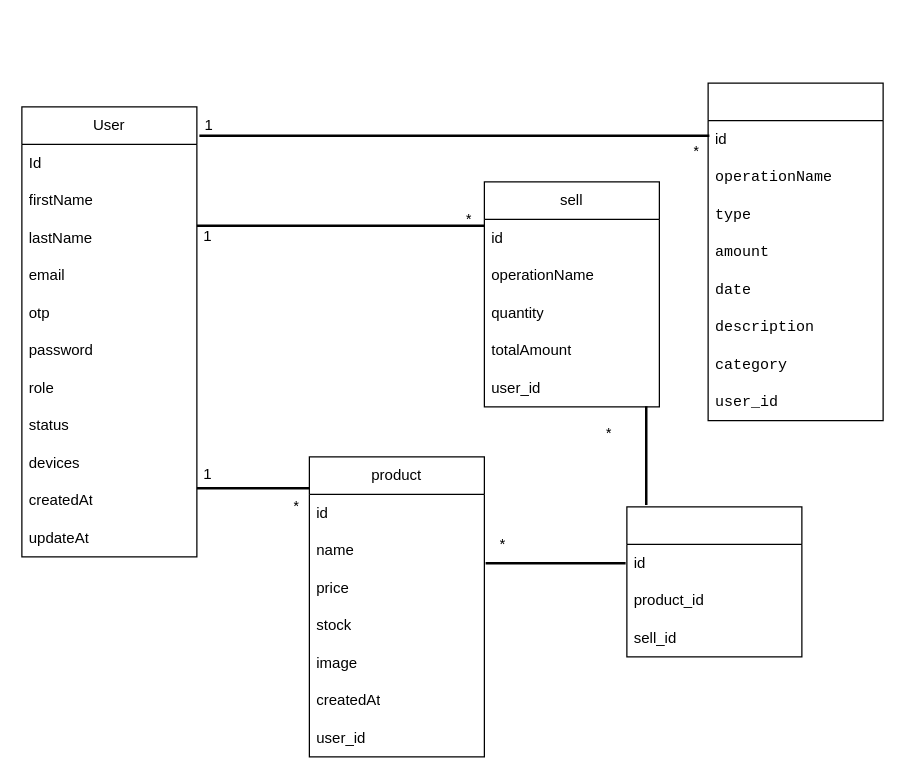
This 905x779 diagram has some shape labels left out. Each missing label, with the box of its shape:
expense: (707, 82, 883, 421)
product_sell: (626, 506, 802, 657)
